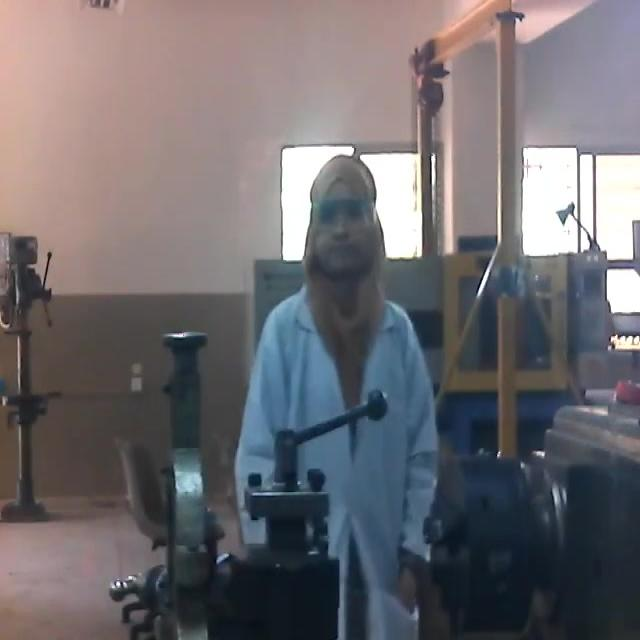googles: (311, 185, 375, 237)
labcoat: (232, 261, 441, 640)
